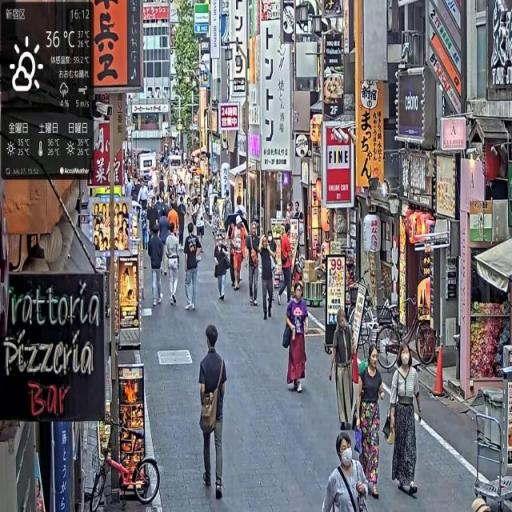person: (198, 320, 231, 505), (387, 344, 425, 501), (355, 347, 388, 499), (324, 429, 375, 512), (329, 307, 355, 433), (283, 280, 310, 395), (184, 223, 205, 312), (245, 220, 263, 308), (164, 221, 182, 307), (260, 236, 277, 323), (280, 221, 297, 307), (150, 226, 166, 307), (216, 236, 232, 305)
